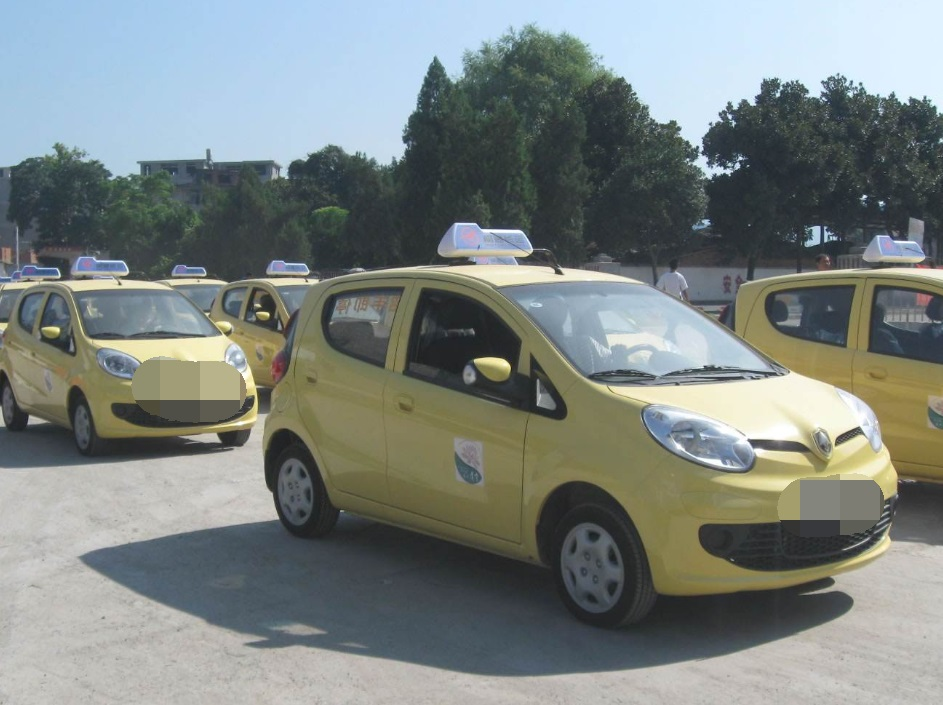taxi: (260, 219, 897, 639)
